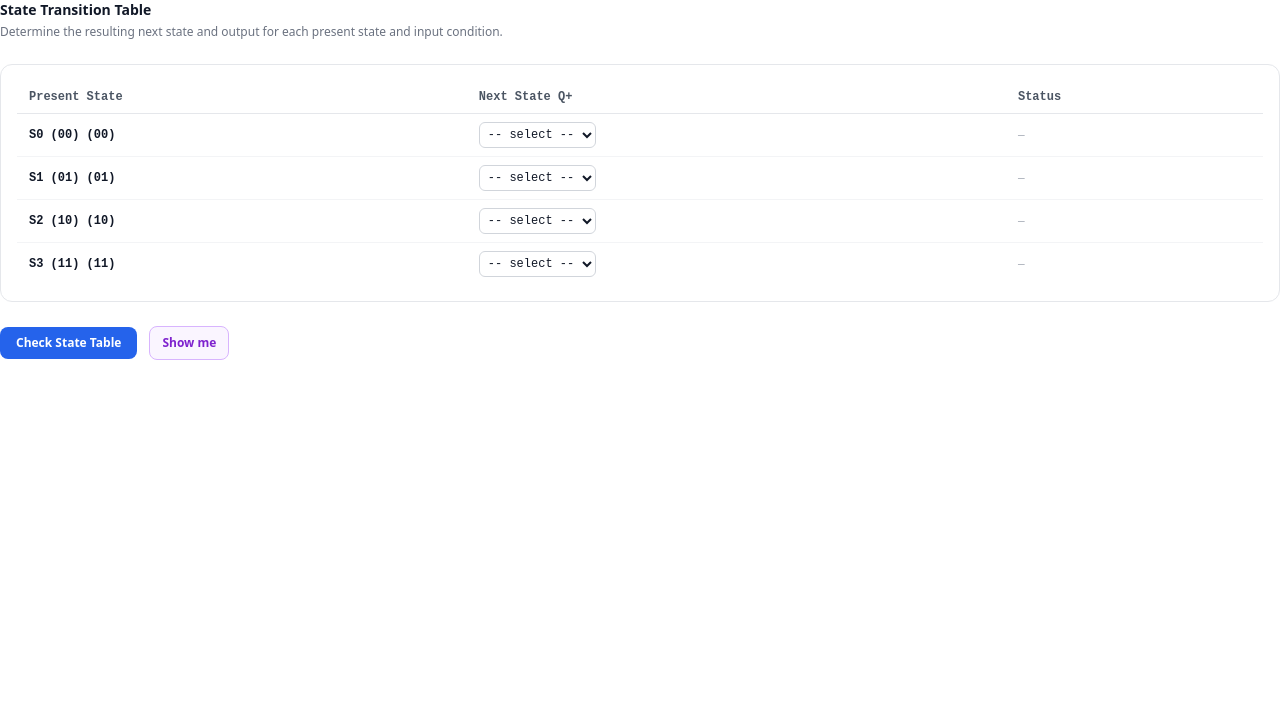
Test case: StateTableEditor component › progresses through HintLadder where levels 1-2 never leak expected answer and level 3 reveals it
Select "S2 (10) (10)" in the dropdown named "State 00 (S0 (00)), next state" at (537, 135), box [479, 122, 596, 148]
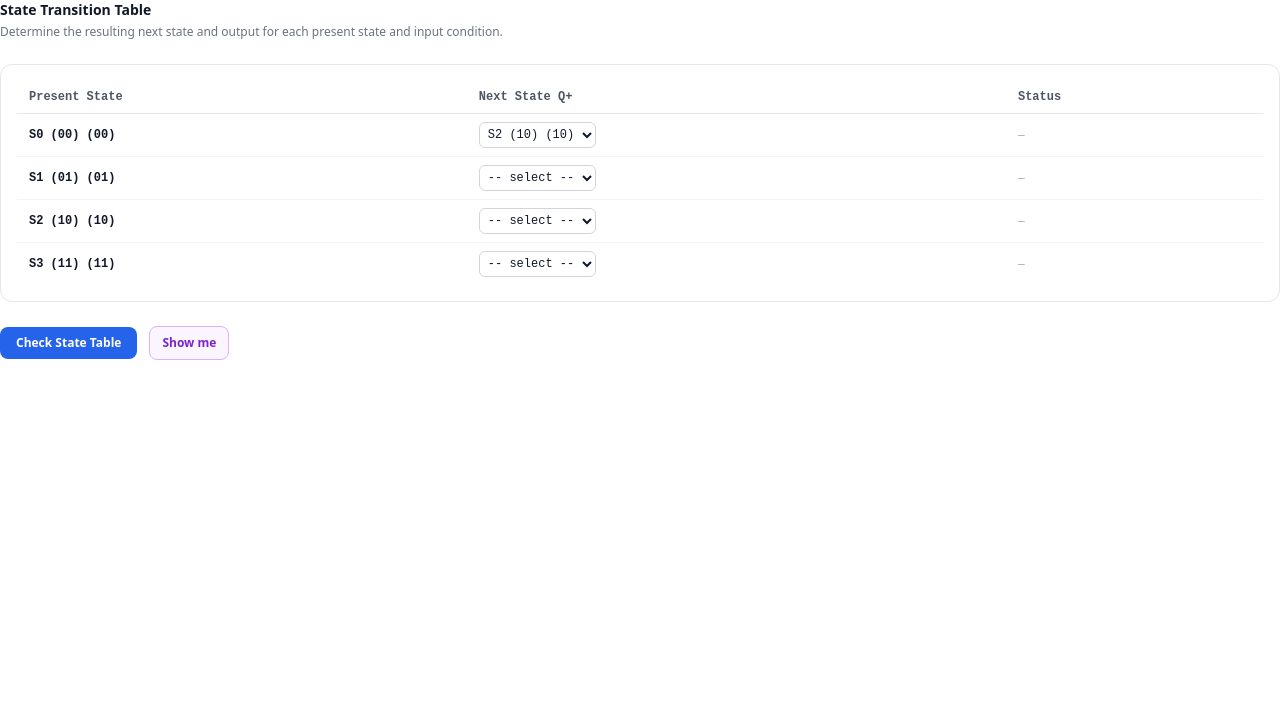
Click the button "Check State Table" at (69, 343), box [0, 327, 137, 359]
(page scrolled)
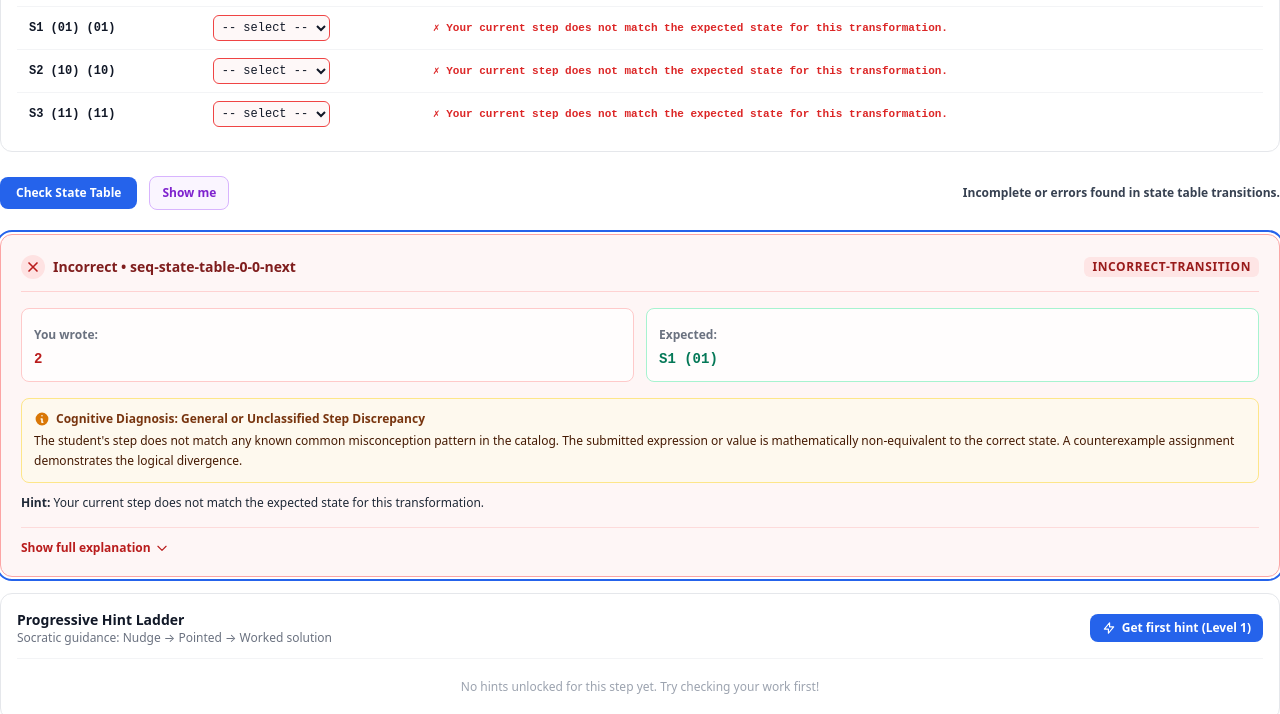
Check: the button with aria-label "Unlock hint level 1" is shown
Note: Level 1: Nudge (no expected value leaked)
Click the button with aria-label "Unlock hint level 1" at (1176, 628), box [1090, 614, 1263, 642]
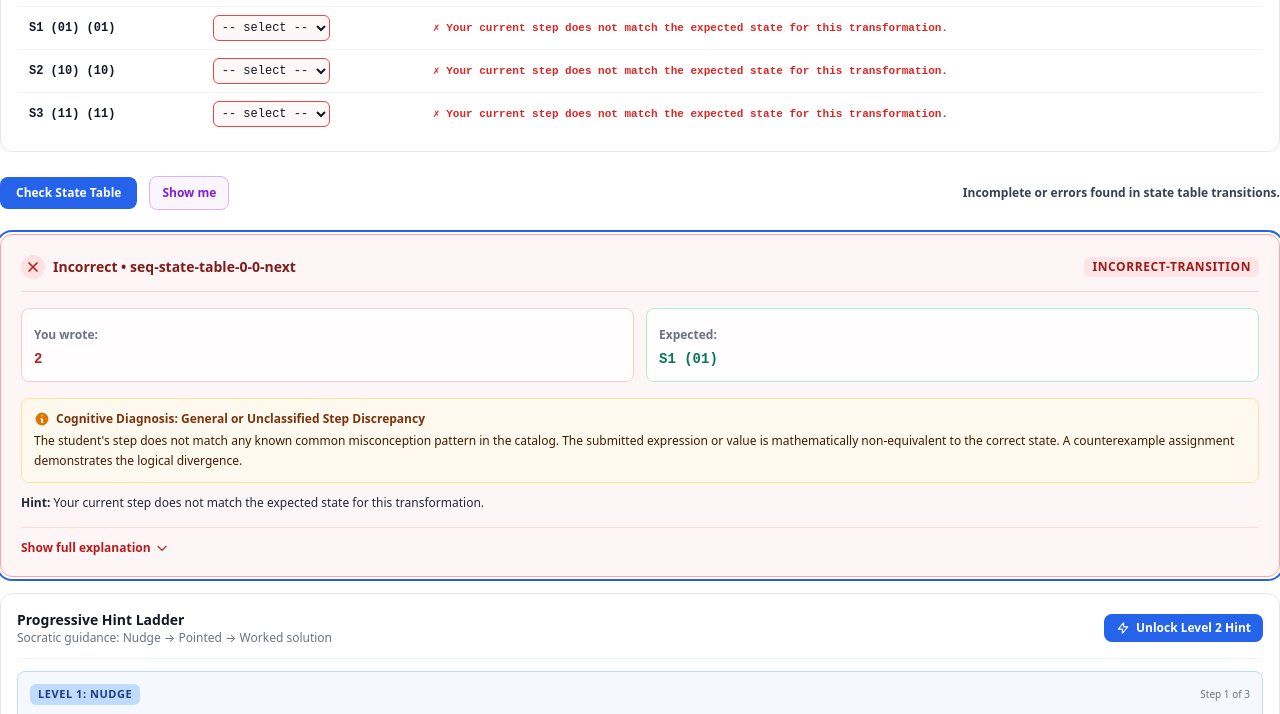
Check: the text "Level 1: Nudge" is shown, box [30, 684, 140, 704]
Note: Level 2: Pointed (no expected value leaked)
Click the button with aria-label "Unlock hint level 2" at (1184, 628), box [1104, 614, 1263, 642]
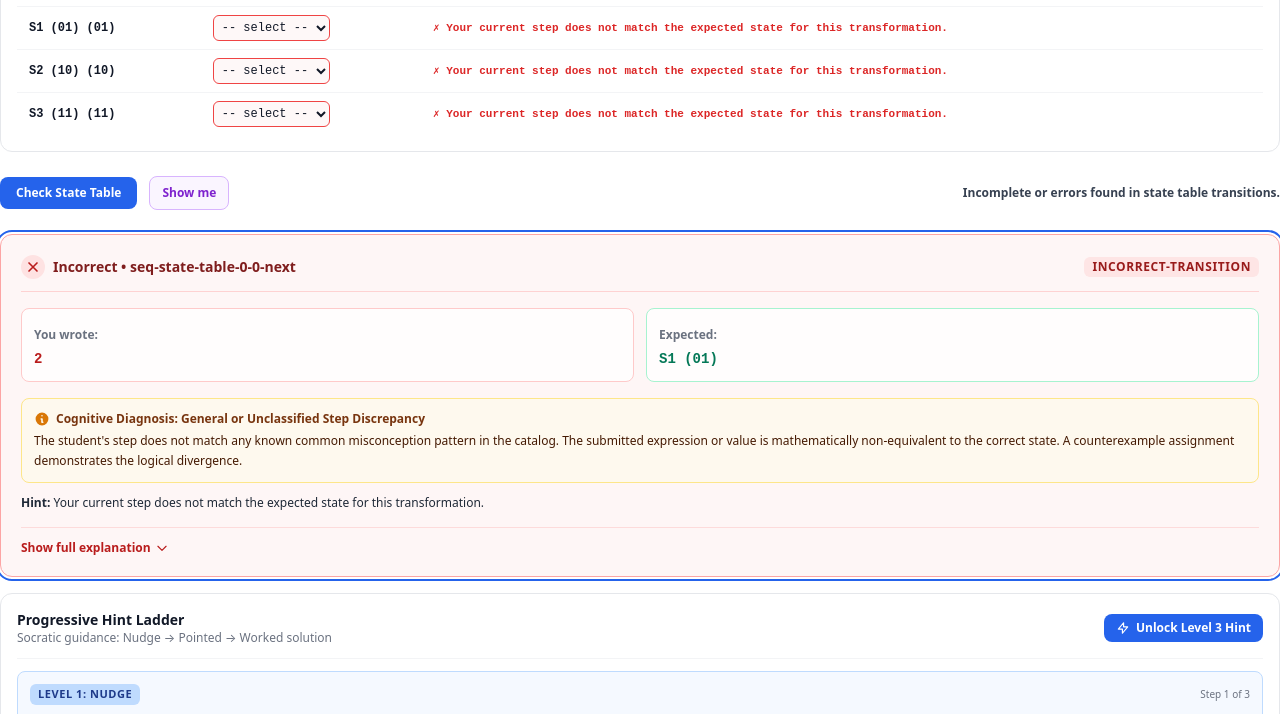
Note: Level 3: Worked solution step (reveals expected value)
Click the button with aria-label "Unlock hint level 3" at (1184, 628), box [1104, 614, 1263, 642]
(page scrolled)
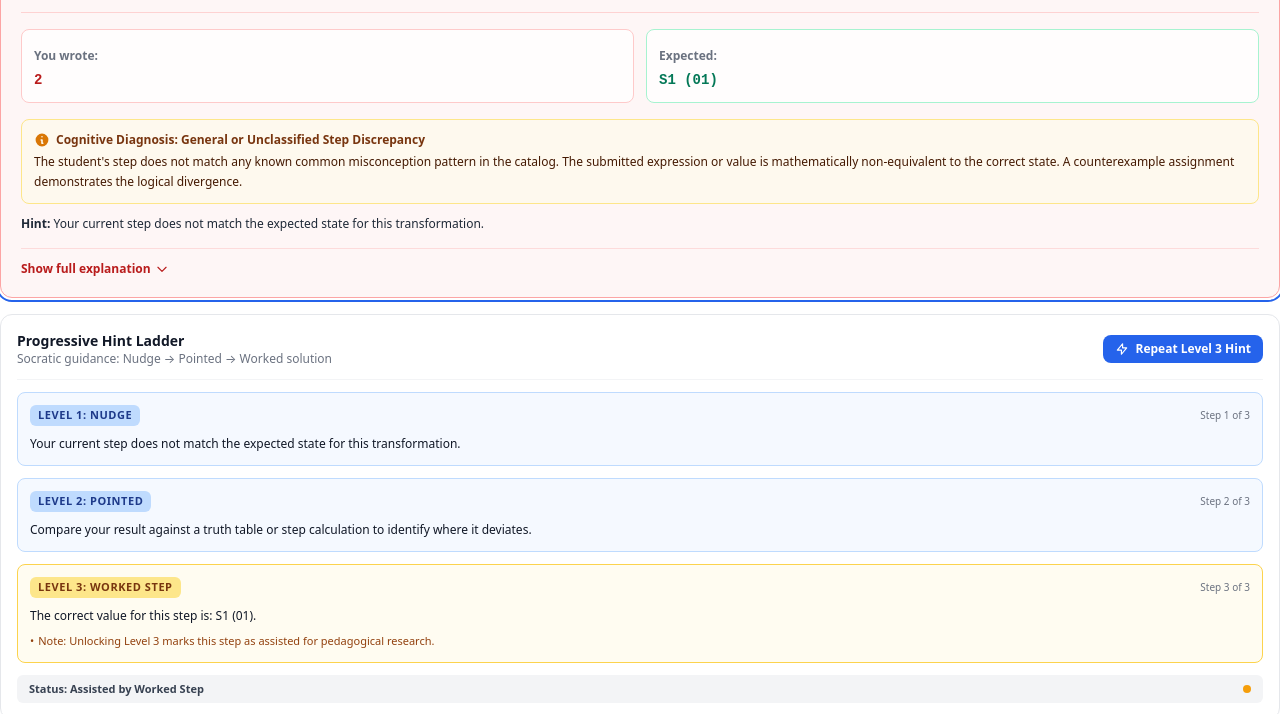
Check: the text "Level 3: Worked Step" is shown, box [30, 577, 181, 598]
Check: the text "The correct value for this step is: S1 (01)." is shown, box [30, 606, 256, 624]
